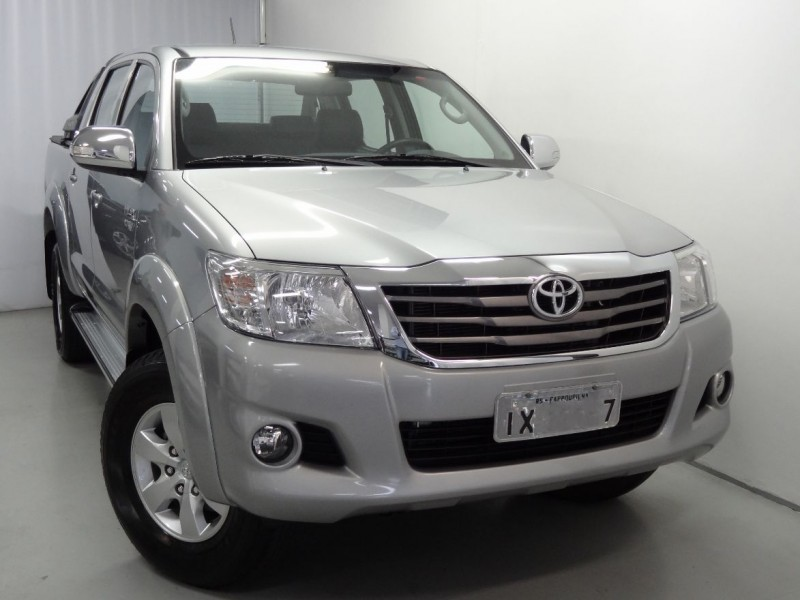Carro: (41, 39, 747, 584)
